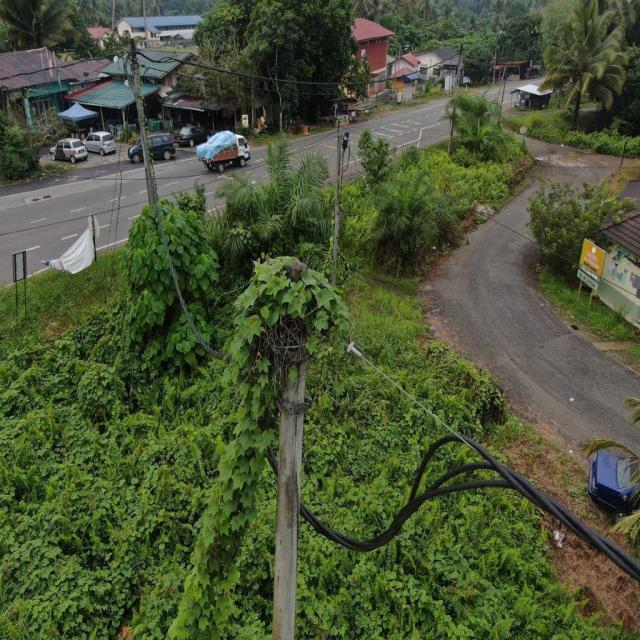critical vegetation: (155, 240, 350, 637)
